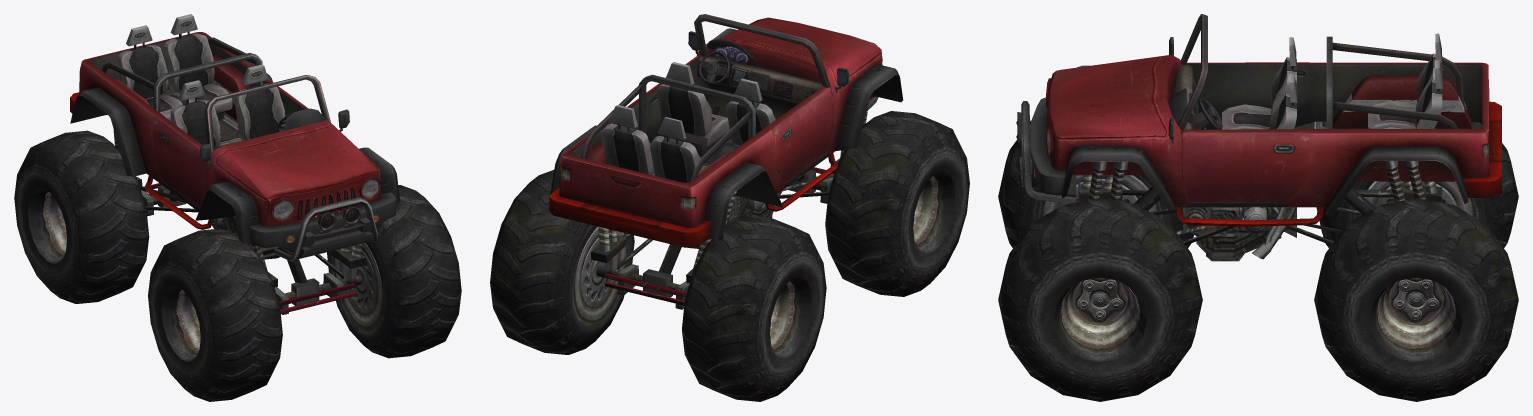
The model's file is monster-truck.glb.
3 renders of one model, left to right at view 1: azimuth 30°, elevation 25°; view 2: azimuth 150°, elevation 25°; view 3: azimuth 270°, elevation 25°, orthographic. The views are drawn at different scales.
Visible parts, largest first — view 1: Object_2; view 2: Object_2; view 3: Object_2.
Boxes of the visible parts, left/top/right/bottom form: Object_2: left=14, top=14, right=461, bottom=401; Object_2: left=490, top=14, right=969, bottom=401; Object_2: left=998, top=14, right=1518, bottom=401.
Bounding box in the file's own units: 0.0284 × 0.0275 × 0.0432.
Materials: 1 (1 with a texture image).
